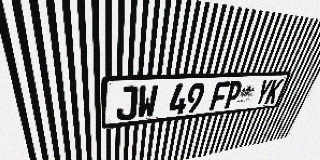4: (168, 83, 190, 115)
9: (184, 83, 206, 113)
F: (209, 81, 230, 111)
J: (116, 86, 138, 121)
K: (264, 79, 284, 104)
P: (222, 81, 244, 109)
W: (137, 85, 159, 119)
Y: (253, 79, 274, 105)
